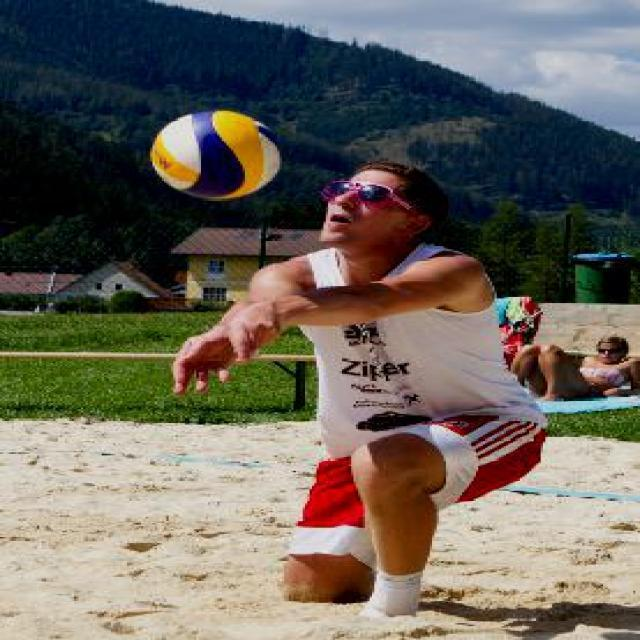volleyball: (152, 110, 280, 198)
